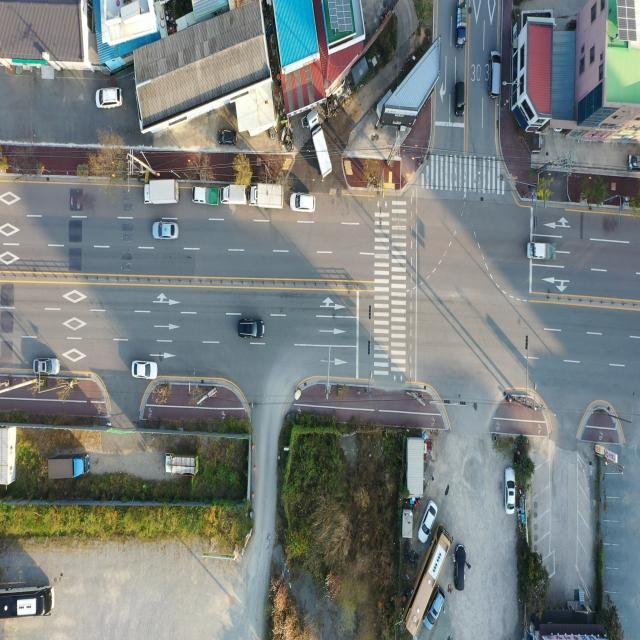car: (422, 584, 446, 630), (487, 51, 502, 99), (420, 503, 437, 545), (452, 541, 466, 592), (238, 319, 266, 340), (96, 88, 122, 110), (291, 191, 317, 212), (155, 220, 180, 240), (133, 360, 158, 379), (34, 356, 59, 374), (505, 470, 515, 514), (455, 82, 465, 117), (218, 130, 235, 146)
large_bus: (402, 527, 452, 640), (0, 582, 55, 622)
medium_truck: (307, 104, 333, 180), (46, 449, 90, 484), (144, 176, 181, 205), (249, 182, 285, 211)
small_truck: (163, 452, 200, 476), (219, 183, 248, 207), (528, 241, 558, 264), (192, 184, 220, 208), (455, 0, 466, 50)
